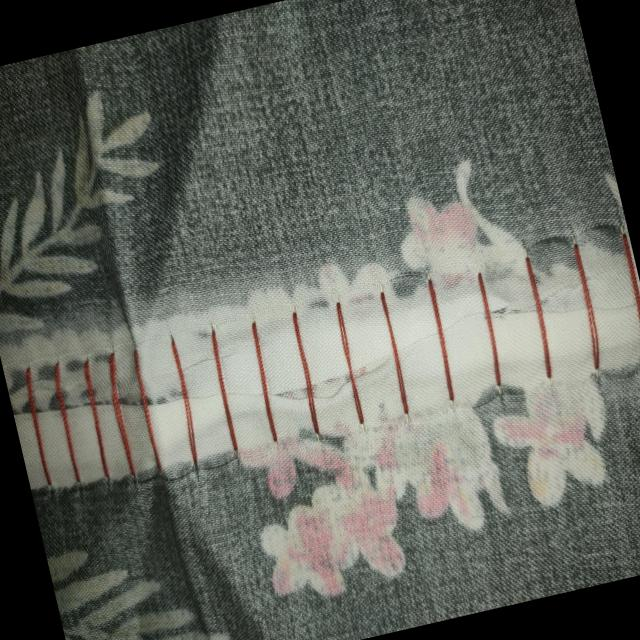gray stitch: (0, 212, 640, 511)
